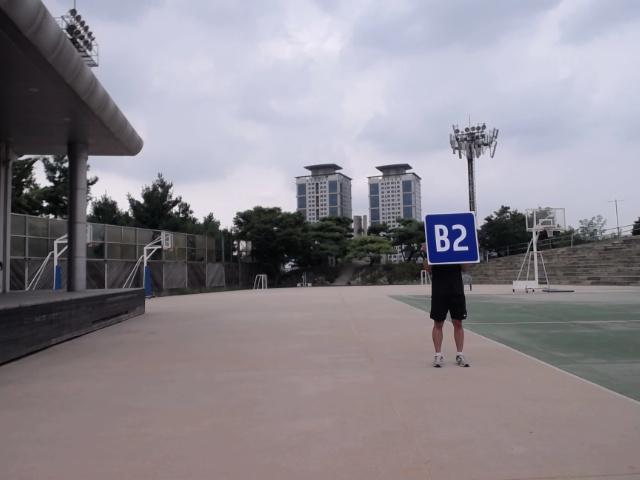delivery_b2: (423, 211, 481, 265)
